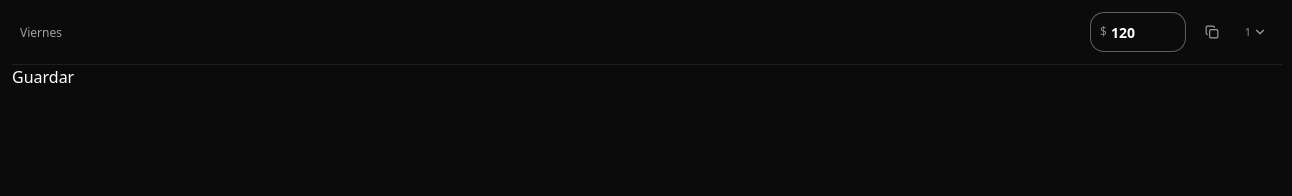
Test case: DayRow — expanding, adding, deleting a differentiated row › reveals "Nuevo precio" and the existing rows once expanded
The image size is (1292, 196).
Click the button named "mostrar franjas de viernes (1)" at (1256, 32), box [1238,14,1274,50]
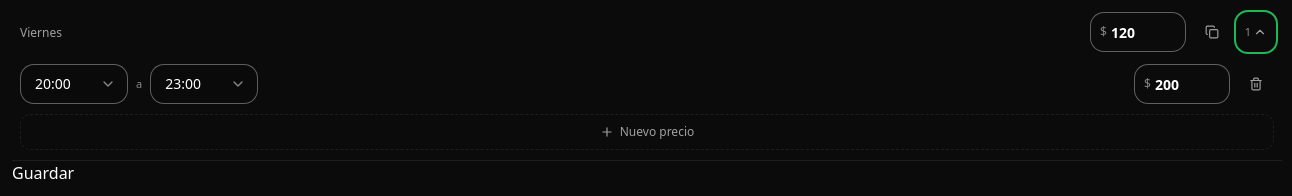
Expected: the field named "precio viernes" is shown, [1090,12,1186,52]
Now the button "Nuevo precio" is shown, box [20,114,1274,150]
Now the field named "viernes, franja 1: precio" holds "200", box [1134,64,1230,104]
